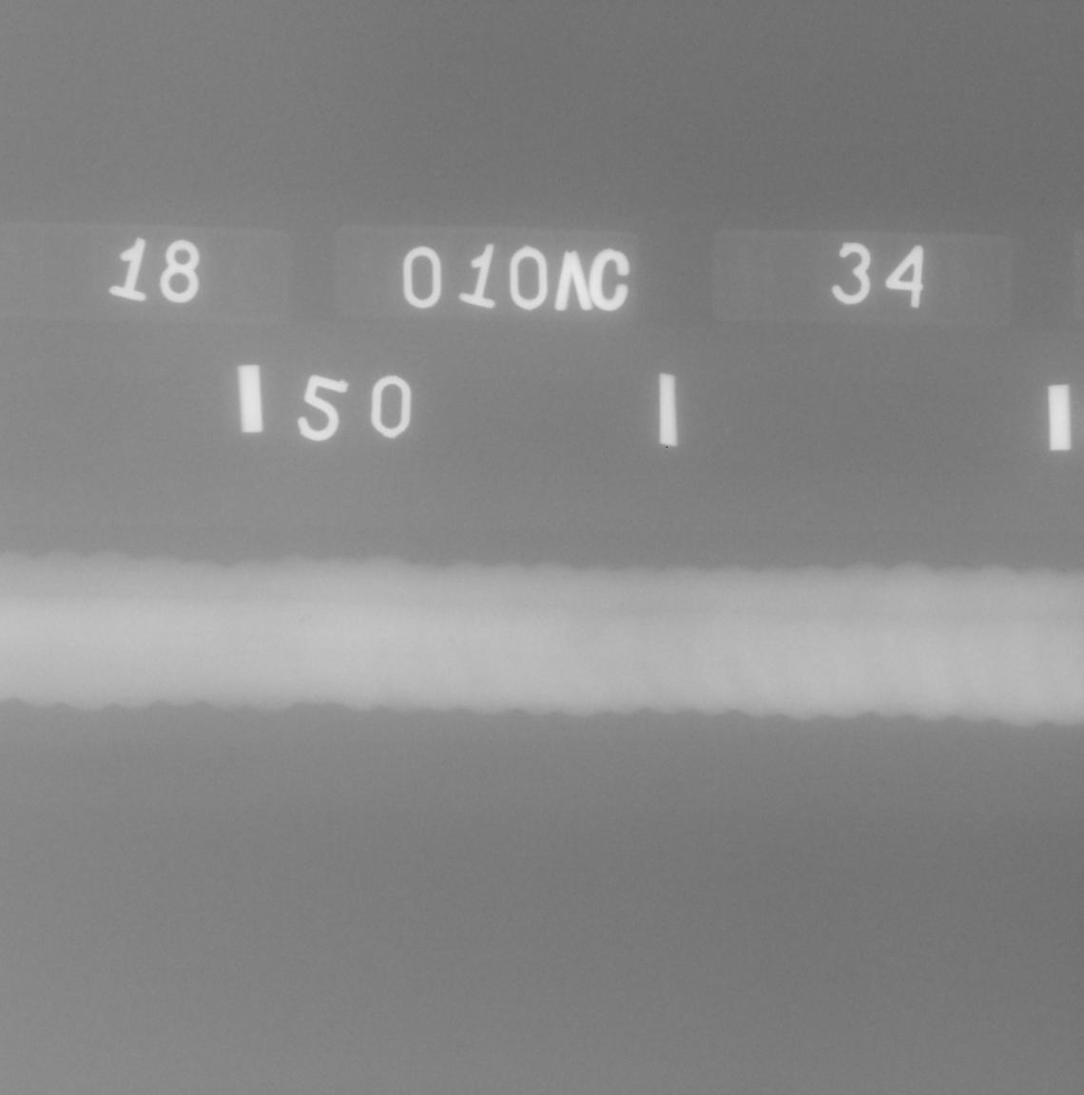Inclusion: (448, 638, 454, 641)
Pore/Porosity: (300, 617, 305, 623), (379, 639, 384, 644), (307, 615, 311, 620), (273, 644, 277, 648)
